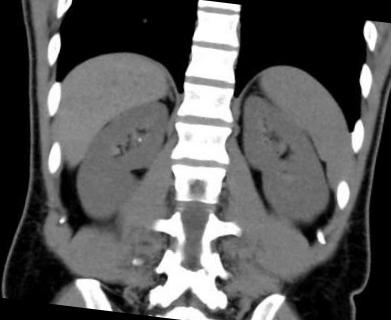Tas_Var: (134, 134, 144, 144)
